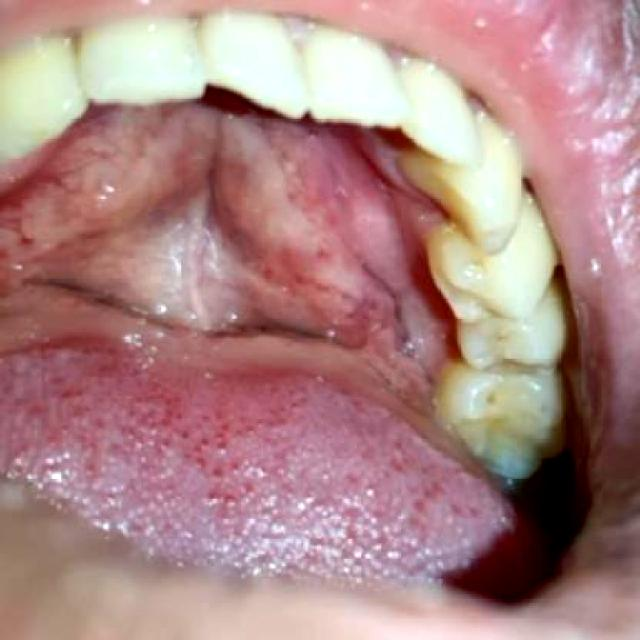Plaque: (480, 328, 515, 349), (472, 385, 502, 409)
